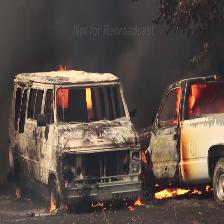fire: (146, 71, 224, 204), (54, 64, 117, 132)
smoke: (3, 0, 224, 62)
